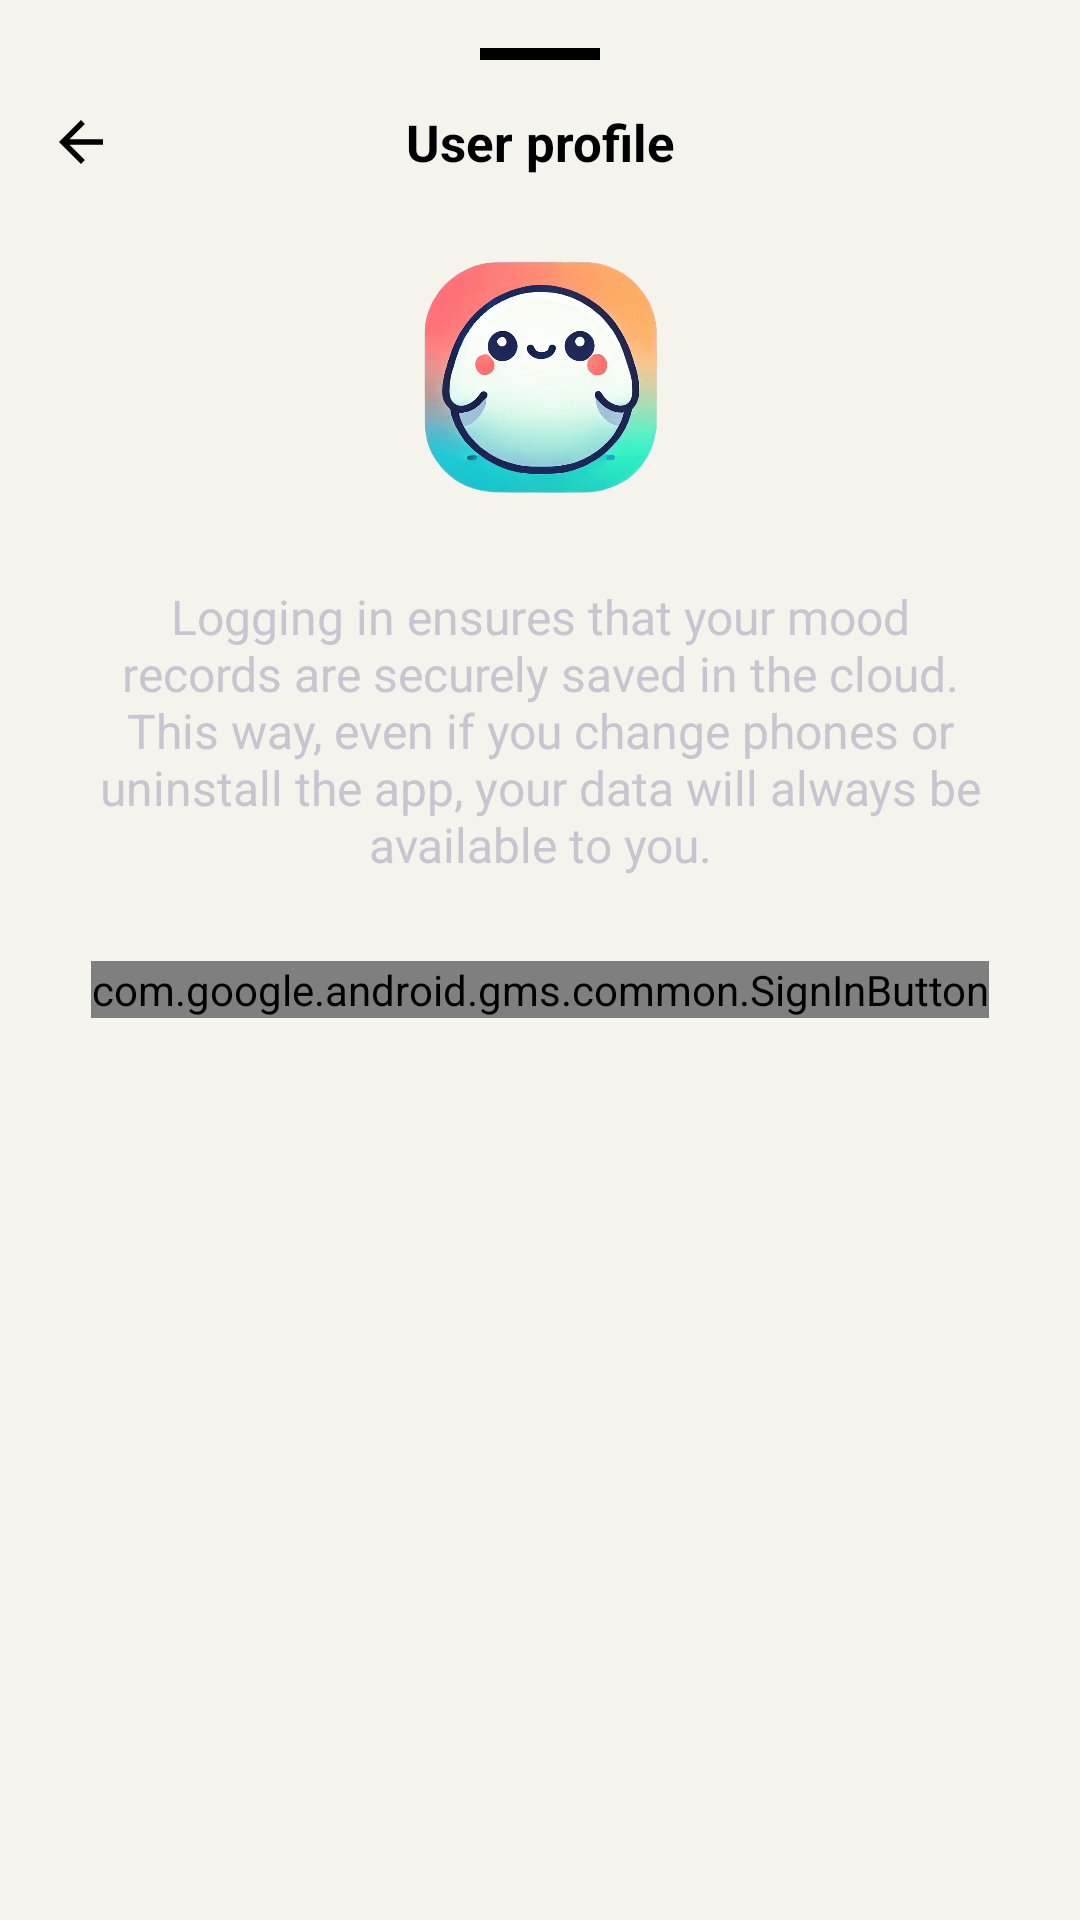

Icons on this 1080px×1920px Android screen, each with the point to tap as (x=x, y=y):
Back: (x=81, y=142)
mascote: (x=541, y=377)
